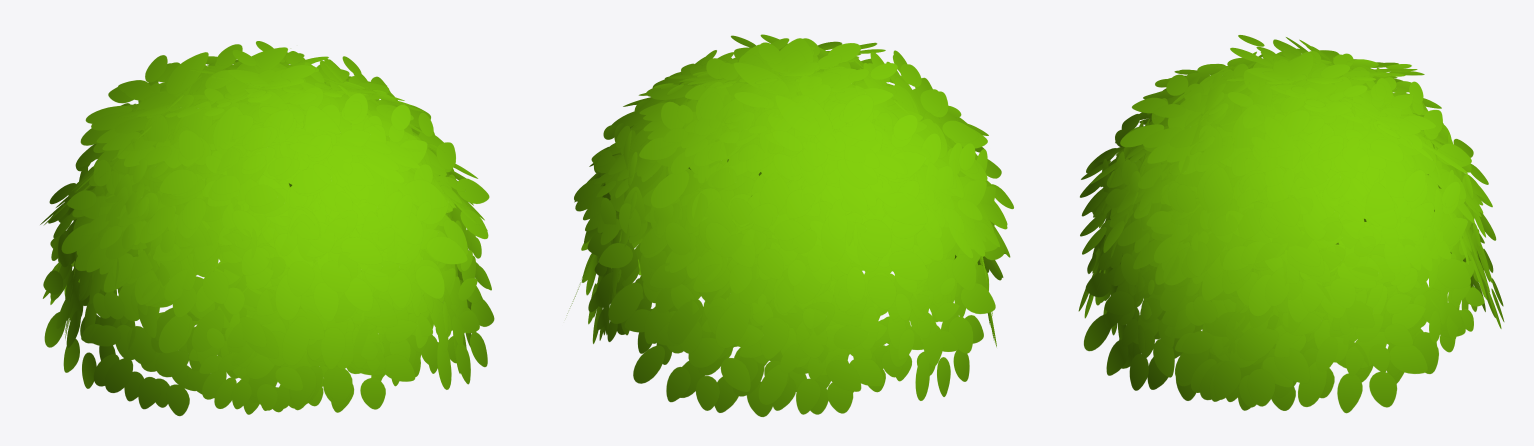
Rendered from Bush.glb.
The picture shows the model from 3 angles, left to right: view 1: azimuth 30°, elevation 25°; view 2: azimuth 150°, elevation 25°; view 3: azimuth 270°, elevation 25°; orthographic projection. The views are drawn at different scales.
Visible parts, largest first — view 1: Bush; view 2: Bush; view 3: Bush.
Boxes of the visible parts, bbox=[...] form: Bush: bbox=[40, 41, 494, 416]; Bush: bbox=[566, 34, 1013, 416]; Bush: bbox=[1078, 35, 1504, 413].
Size of the model in its own units: 1.09 by 0.6916 by 1.05.
Materials: 1 (1 with a texture image).
